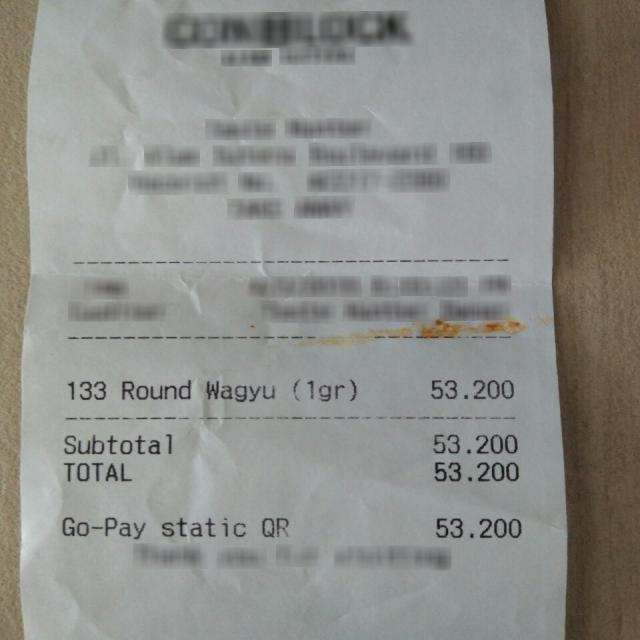kertas: (22, 0, 567, 640)
